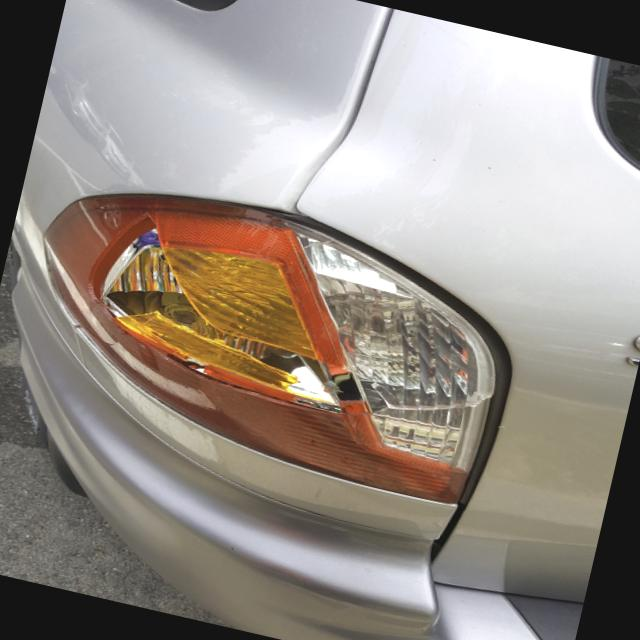Phare abime: (36, 185, 458, 500)
